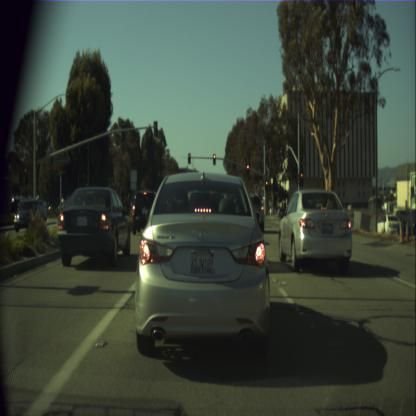Red: (299, 172, 303, 186), (212, 154, 216, 164), (246, 163, 249, 174), (265, 180, 268, 190), (188, 153, 190, 163), (86, 182, 88, 187)
